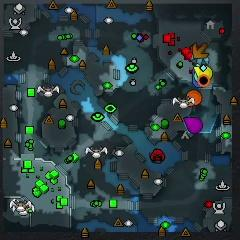p1: (192, 78, 201, 88)
p2: (194, 72, 199, 82)
p3: (184, 117, 203, 134)
p4: (193, 66, 213, 80)
p5: (186, 89, 202, 106)
p5Clone: (198, 74, 210, 87)
x3: (190, 55, 209, 66)
x5: (192, 43, 208, 59)
